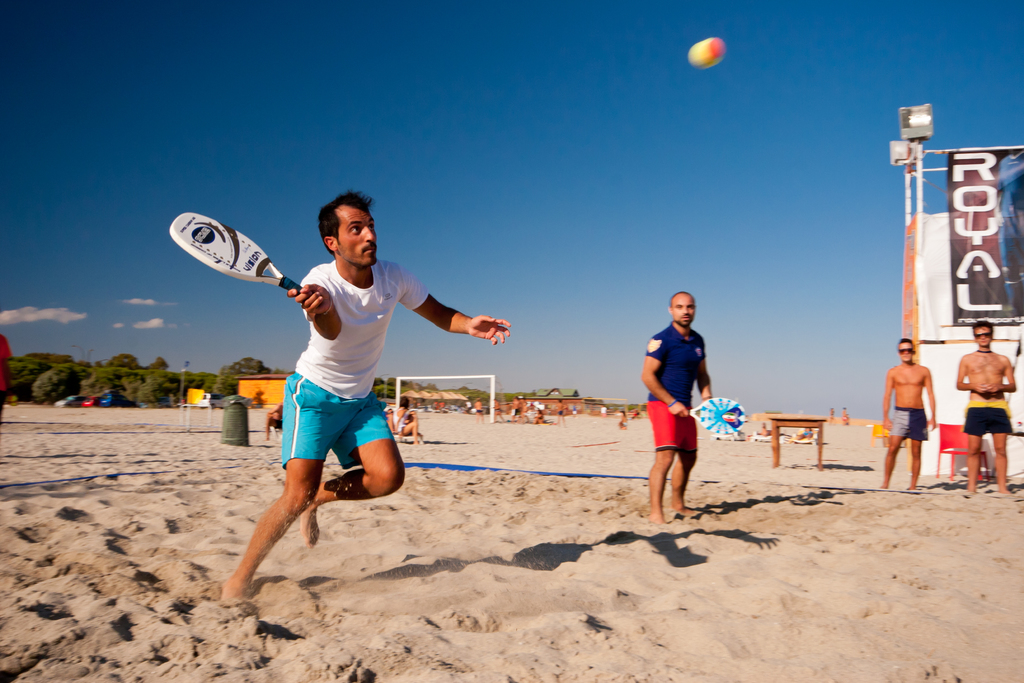Ball: (685, 39, 723, 67)
